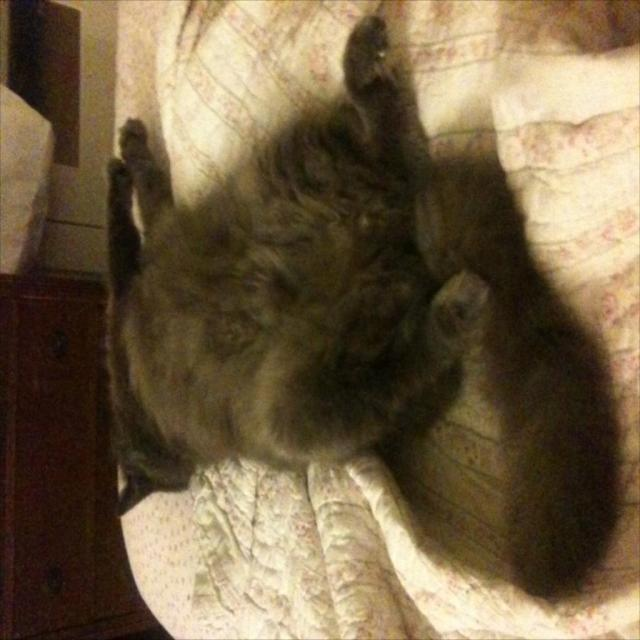Cat: (113, 15, 623, 601)
